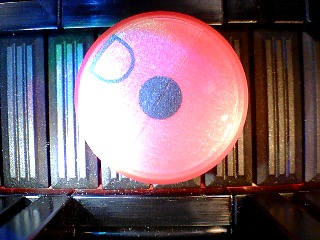BOHOMIPO1: (74, 11, 249, 184)
